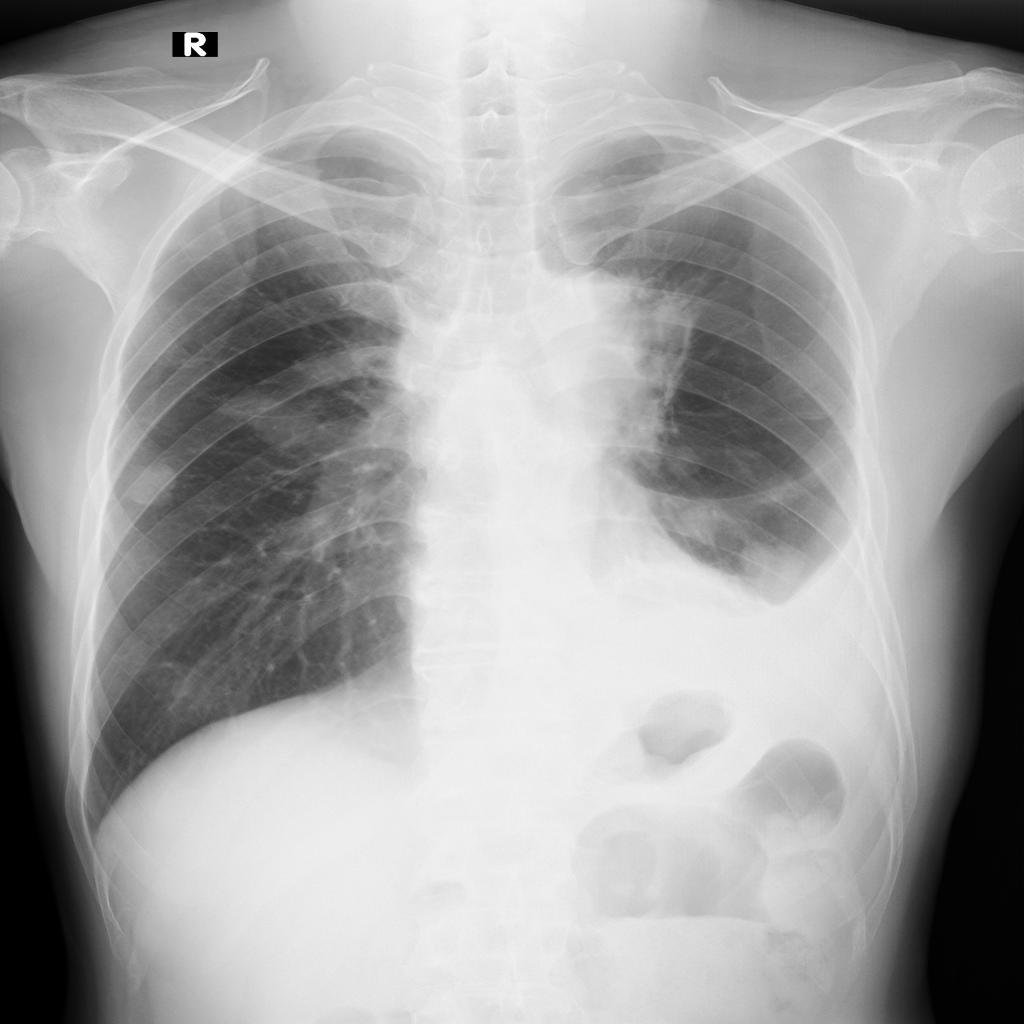Nodule: (554, 270, 690, 453), (249, 397, 324, 448), (657, 499, 716, 542), (132, 466, 182, 510), (735, 542, 785, 578), (662, 448, 701, 478)
